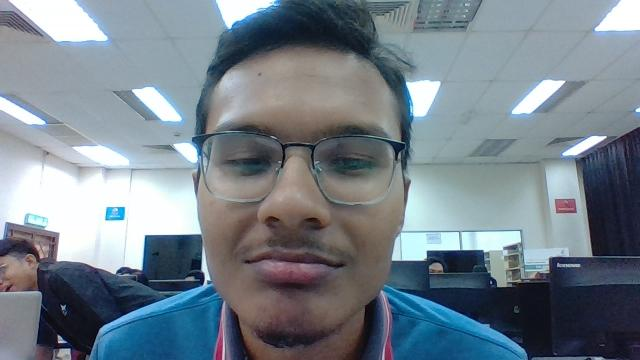senang: (180, 53, 420, 337)
